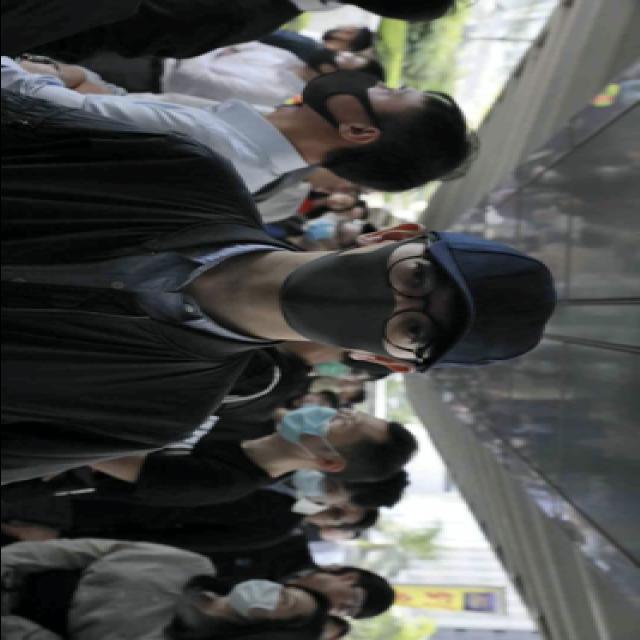with_mask: (285, 243, 453, 355), (300, 67, 414, 125), (280, 405, 366, 456), (226, 580, 304, 622), (290, 468, 348, 502), (300, 50, 362, 72), (304, 219, 350, 243)
without_mask: (309, 581, 367, 616)
